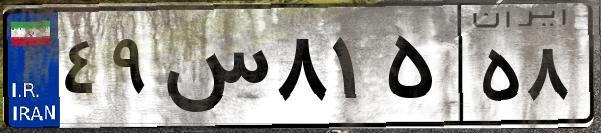1: (330, 28, 385, 110)
4: (57, 26, 110, 100)
5: (385, 28, 445, 110), (475, 38, 525, 113)
8: (270, 28, 330, 110), (525, 38, 570, 115)
9: (110, 28, 158, 98)
س: (158, 20, 270, 120)
